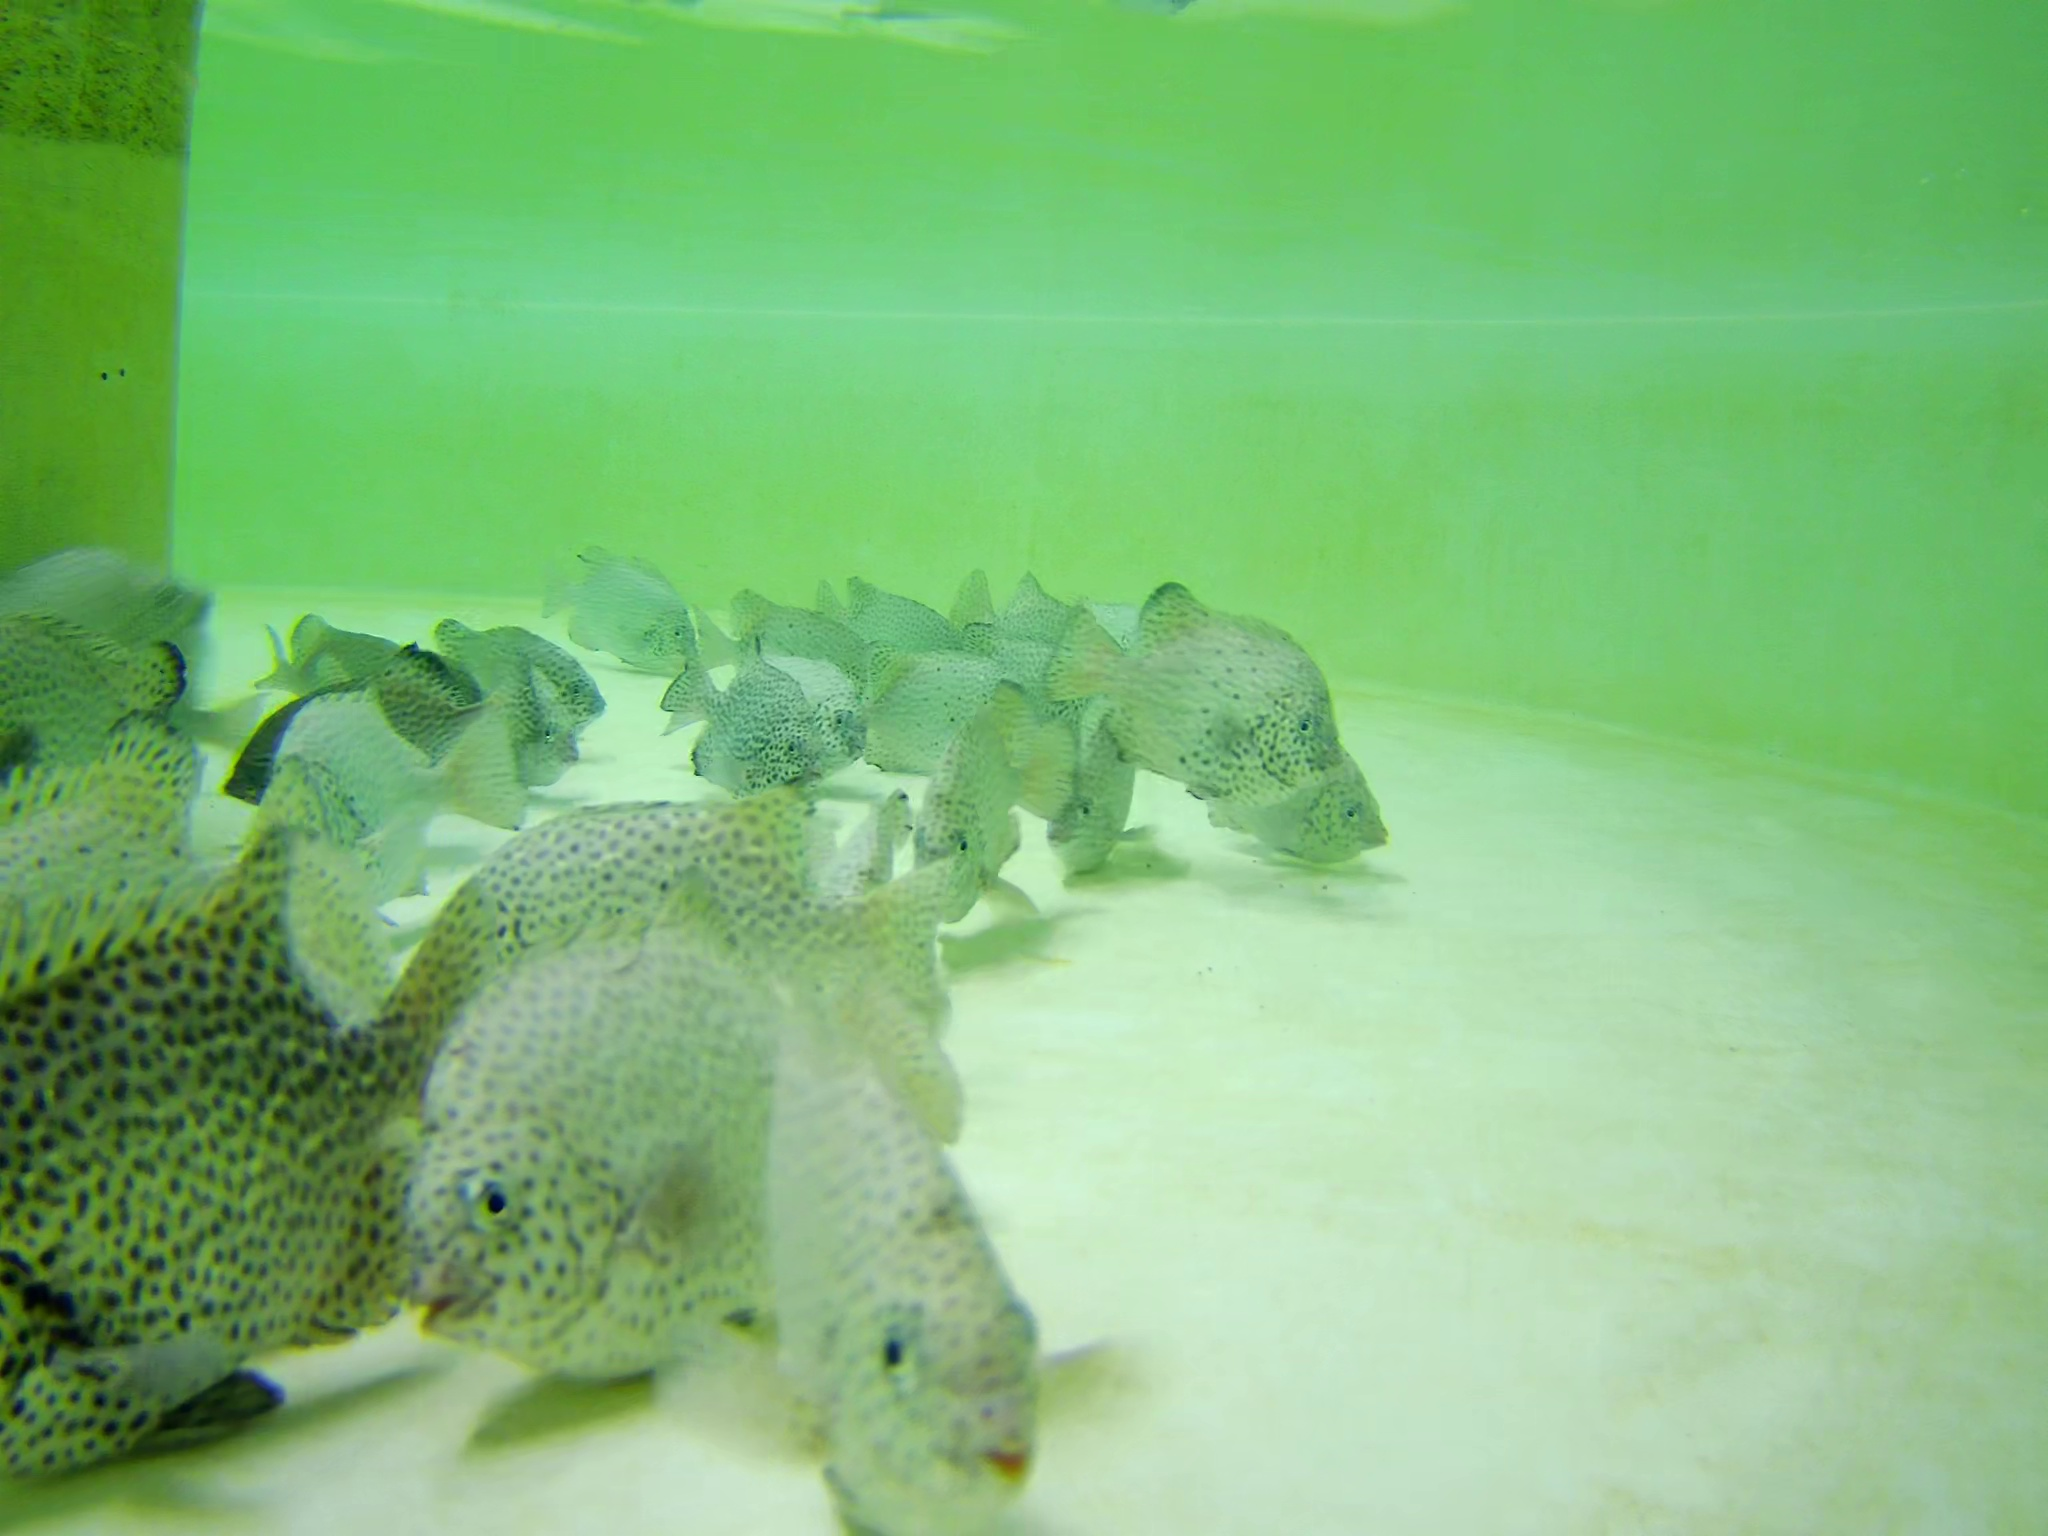fish: (2, 842, 495, 1489), (369, 789, 951, 1196), (403, 873, 887, 1360), (751, 957, 1155, 1536), (2, 757, 389, 1083), (239, 682, 535, 895), (1048, 576, 1347, 787), (2, 534, 250, 773), (2, 641, 227, 799), (1188, 716, 1392, 868), (221, 676, 402, 829), (540, 537, 711, 684), (429, 605, 603, 744), (910, 726, 1035, 907), (651, 657, 834, 779), (790, 566, 961, 691), (747, 636, 876, 786), (943, 563, 1095, 678), (963, 670, 1079, 815), (668, 594, 872, 676), (442, 676, 582, 794), (1050, 715, 1145, 878), (256, 618, 410, 708)
